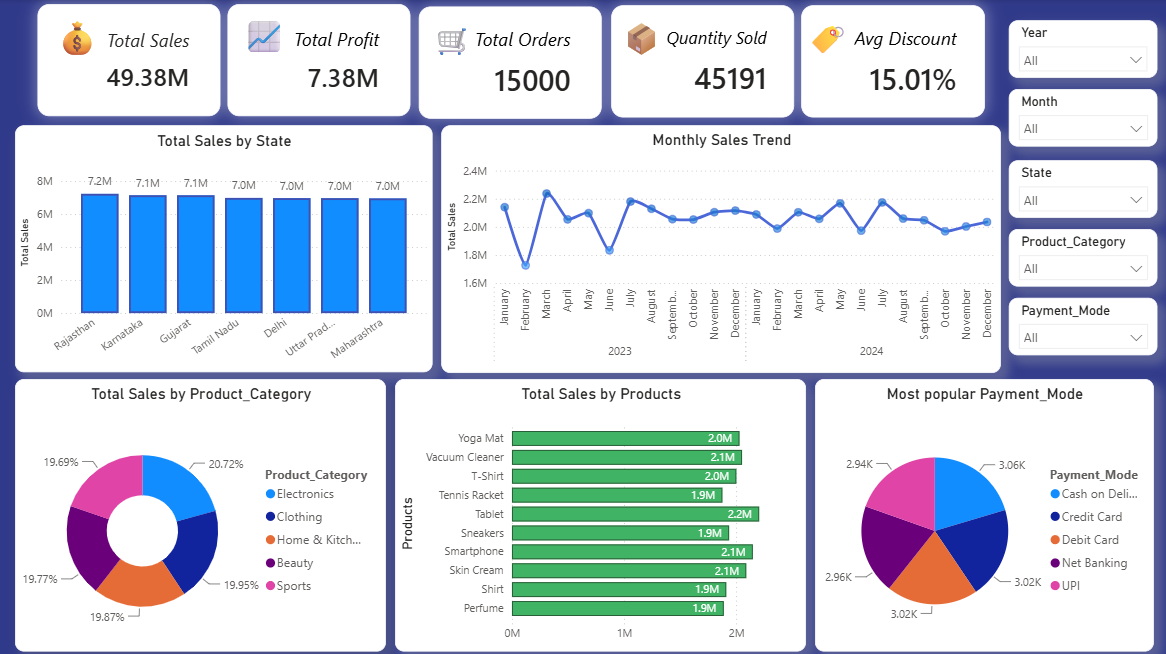

Layout of this report page (visuals, bound fields, positions):
{"tool":"powerbi","page":{"name":"Sales dashboard ","canvas":[1280,720],"ordinal":0},"visuals":[{"type":"cardVisual","fields":{"Data":["Sum(ecommerce_sales_dataset_15000_r.Sales_Amount)"]},"box":[41.2,5.5,201,123.5],"z":0},{"type":"cardVisual","fields":{"Data":["Sum(ecommerce_sales_dataset_15000_r.Profit)"]},"box":[250,5.5,201,123.5],"z":1000},{"type":"cardVisual","fields":{"Data":["Count(ecommerce_sales_dataset_15000_r.Order_ID)"]},"box":[459.7,8.2,201,123.5],"z":2000},{"type":"cardVisual","fields":{"Data":["Sum(ecommerce_sales_dataset_15000_r.Quantity)"]},"box":[671,6.9,201,123.5],"z":3000},{"type":"cardVisual","fields":{"Data":["Avg(ecommerce_sales_dataset_15000_r.Discount)"]},"box":[879.6,6.9,201.7,123.5],"z":4000},{"type":"columnChart","title":"Total Sales by State","fields":{"Category":["ecommerce_sales_dataset_15000_r.State"],"Y":["Sum(ecommerce_sales_dataset_15000_r.Sales_Amount)"]},"box":[17,139,458.3,271],"z":5000},{"type":"donutChart","title":"Total Sales by Product_Category","fields":{"Y":["Sum(ecommerce_sales_dataset_15000_r.Sales_Amount)"],"Category":["ecommerce_sales_dataset_15000_r.Product_Category"]},"box":[16.5,417.2,407.5,299.1],"z":6000},{"type":"lineChart","title":"Monthly Sales Trend ","fields":{"Y":["Sum(ecommerce_sales_dataset_15000_r.Sales_Amount)"],"Category":["ecommerce_sales_dataset_15000_r.Order_Date.Variation.Date Hierarchy.Year","ecommerce_sales_dataset_15000_r.Order_Date.Variation.Date Hierarchy.Month"]},"box":[484.4,138.6,614.8,271.7],"z":7000},{"type":"clusteredBarChart","title":"Top 10 products by sales","fields":{"Category":["ecommerce_sales_dataset_15000_r.Product_Name"],"Y":["Sum(ecommerce_sales_dataset_15000_r.Sales_Amount)"]},"box":[433.6,417.2,451.5,299.1],"z":8000},{"type":"pieChart","title":"Most popular Payment_Mode","fields":{"Category":["ecommerce_sales_dataset_15000_r.Payment_Mode"],"Y":["CountNonNull(ecommerce_sales_dataset_15000_r.Order_ID)"]},"box":[894.7,417.2,371.9,299.1],"z":9000},{"type":"slicer","fields":{"Values":["ecommerce_sales_dataset_15000_r.Order_Date.Variation.Date Hierarchy.Year"]},"box":[1107,23,163,63.1],"z":10000},{"type":"slicer","fields":{"Values":["ecommerce_sales_dataset_15000_r.Order_Date.Variation.Date Hierarchy.Month"]},"box":[1107,98.8,163.3,63],"z":11000},{"type":"slicer","fields":{"Values":["ecommerce_sales_dataset_15000_r.State"]},"box":[1107,177,163.3,63],"z":12000},{"type":"slicer","fields":{"Values":["ecommerce_sales_dataset_15000_r.Product_Category"]},"box":[1107,252.5,163.3,63],"z":13000},{"type":"slicer","fields":{"Values":["ecommerce_sales_dataset_15000_r.Payment_Mode"]},"box":[1107,328,163.3,63.1],"z":14000},{"type":"image","title":"💰","box":[59,16.5,53.5,56.3],"z":15000},{"type":"image","title":"📈","box":[266.2,16.5,50.8,50.8],"z":16000},{"type":"image","title":"🛒","box":[474.8,24.7,46.7,43.9],"z":17000},{"type":"image","title":"📦","box":[680.6,17.8,49.4,50.8],"z":18000},{"type":"image","title":"🏷️","box":[885.1,19.2,49.4,49.4],"z":19000}]}

Visuals, with their boxes in screenshot pixels (x1, y1, x2, y2), scaled from the page's 1280x720 canvas onto the 1166x654 screenshot:
cardVisual - Sum(ecommerce_sales_dataset_15000_r.Sales_Amount): locate(38, 5, 221, 117)
cardVisual - Sum(ecommerce_sales_dataset_15000_r.Profit): locate(228, 5, 411, 117)
cardVisual - Count(ecommerce_sales_dataset_15000_r.Order_ID): locate(419, 7, 602, 120)
cardVisual - Sum(ecommerce_sales_dataset_15000_r.Quantity): locate(611, 6, 794, 118)
cardVisual - Avg(ecommerce_sales_dataset_15000_r.Discount): locate(801, 6, 985, 118)
"Total Sales by State" columnChart: locate(15, 126, 433, 372)
"Total Sales by Product_Category" donutChart: locate(15, 379, 386, 651)
"Monthly Sales Trend " lineChart: locate(441, 126, 1001, 373)
"Top 10 products by sales" clusteredBarChart: locate(395, 379, 806, 651)
"Most popular Payment_Mode" pieChart: locate(815, 379, 1154, 651)
slicer - ecommerce_sales_dataset_15000_r.Order_Date.Variation.Date Hierarchy.Year: locate(1008, 21, 1157, 78)
slicer - ecommerce_sales_dataset_15000_r.Order_Date.Variation.Date Hierarchy.Month: locate(1008, 90, 1157, 147)
slicer - ecommerce_sales_dataset_15000_r.State: locate(1008, 161, 1157, 218)
slicer - ecommerce_sales_dataset_15000_r.Product_Category: locate(1008, 229, 1157, 287)
slicer - ecommerce_sales_dataset_15000_r.Payment_Mode: locate(1008, 298, 1157, 355)
"💰" image: locate(54, 15, 102, 66)
"📈" image: locate(242, 15, 289, 61)
"🛒" image: locate(433, 22, 475, 62)
"📦" image: locate(620, 16, 665, 62)
"🏷️" image: locate(806, 17, 851, 62)
